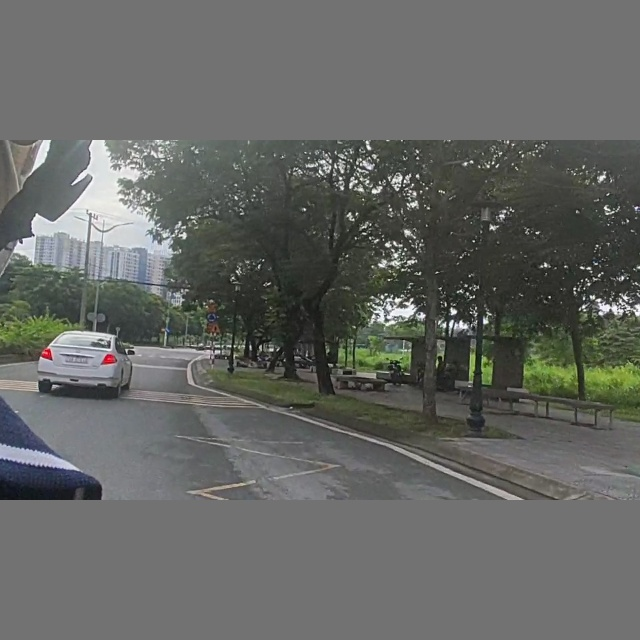P.102: (159, 326, 166, 333)
R.302a: (166, 326, 171, 333)
R.303: (207, 313, 218, 323)
W.207: (211, 322, 223, 333)
